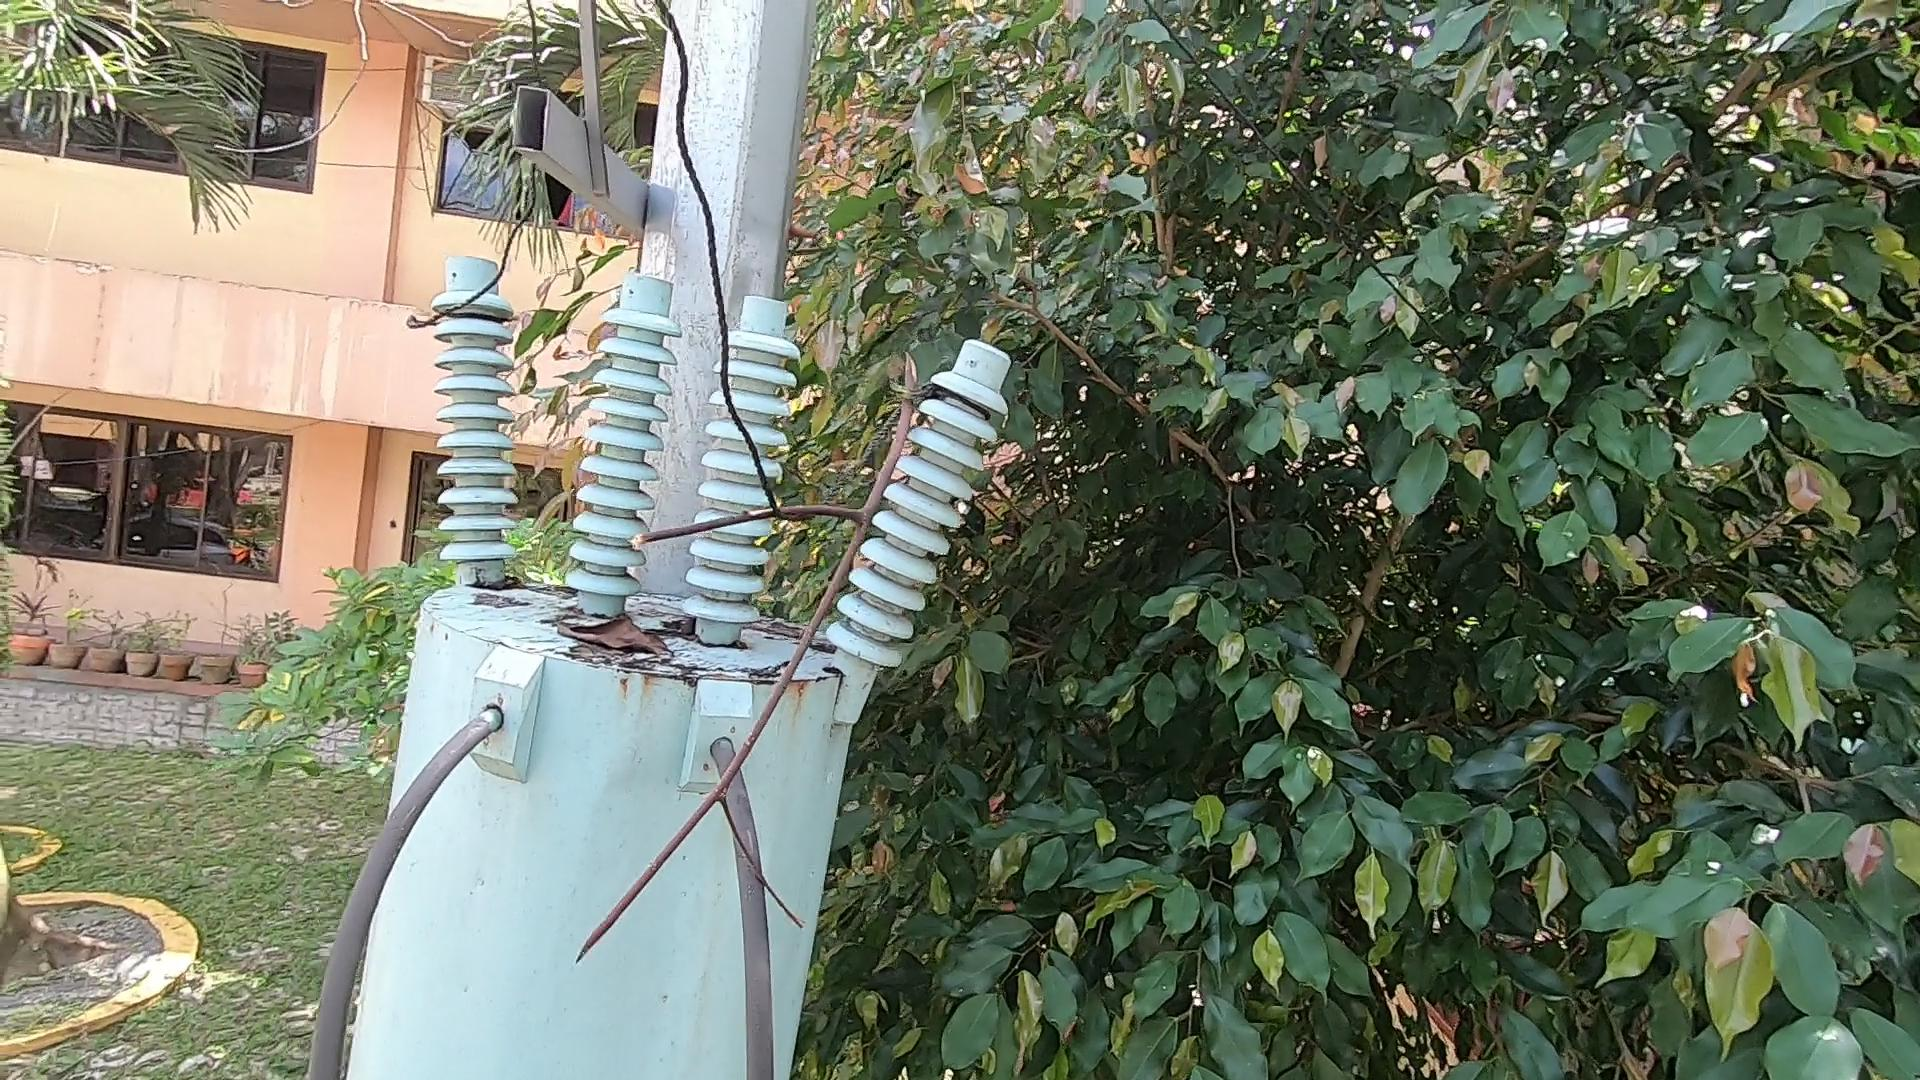leaf: (563, 609, 676, 678)
tree branch: (567, 344, 961, 998)
